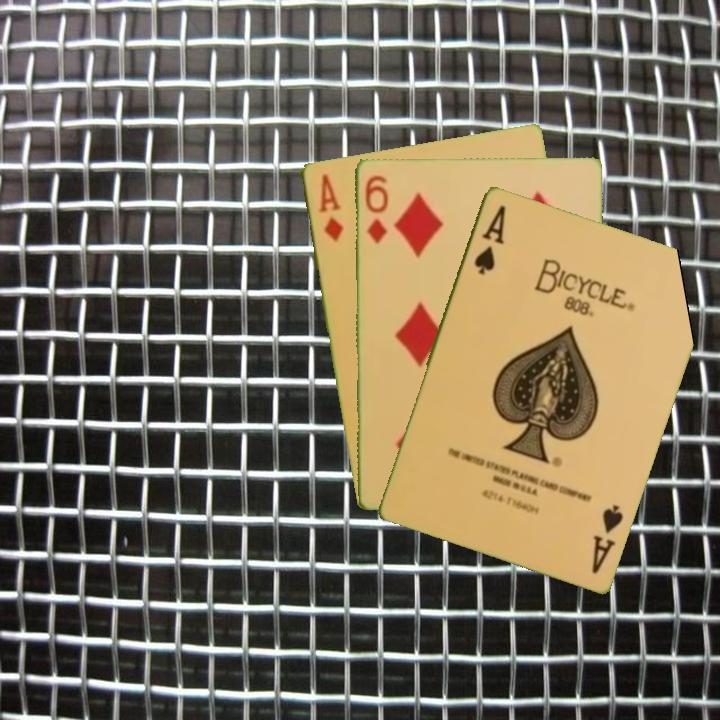6d: (361, 171, 391, 246)
Ad: (314, 170, 346, 244)
As: (470, 201, 508, 278), (588, 500, 626, 576)
